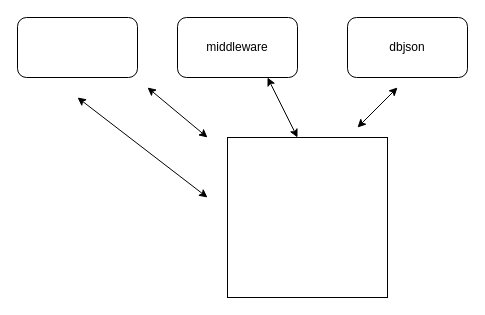
The diagram is 485 pixels wide and 315 high, and some of its shapes have lost their labels. The shapes that lost their labels are listed below. From the top down, each one's box as (x1, y1, x2, y2) in pixels, then its label:
(16, 16, 138, 78): index
(226, 136, 388, 298): server
